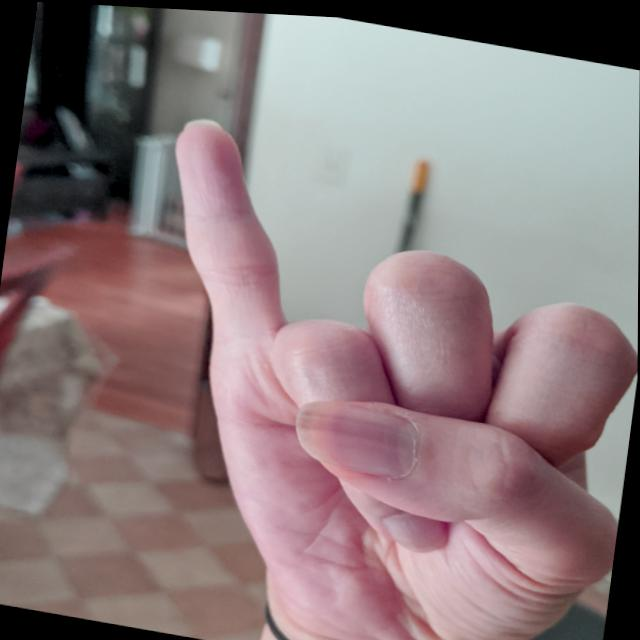I: (108, 102, 639, 639)
